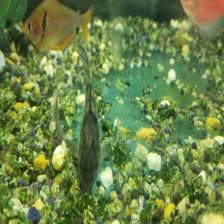Kiros: (49, 57, 133, 192)
